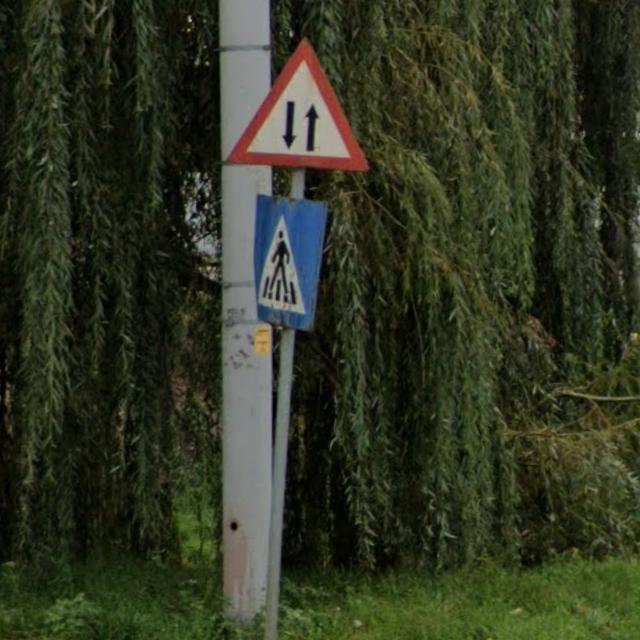info_crosswalk: (255, 194, 328, 331)
